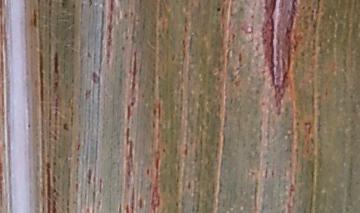tarspot: (60, 122, 70, 132), (309, 6, 316, 15), (144, 166, 150, 176), (215, 6, 222, 13), (25, 122, 32, 129), (300, 3, 306, 11), (129, 99, 135, 106), (87, 1, 93, 8), (295, 120, 300, 127)
